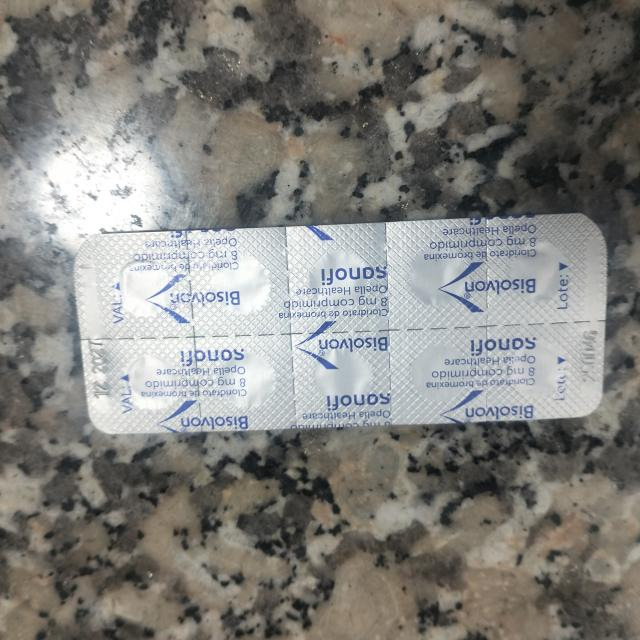blister: (71, 213, 610, 436)
